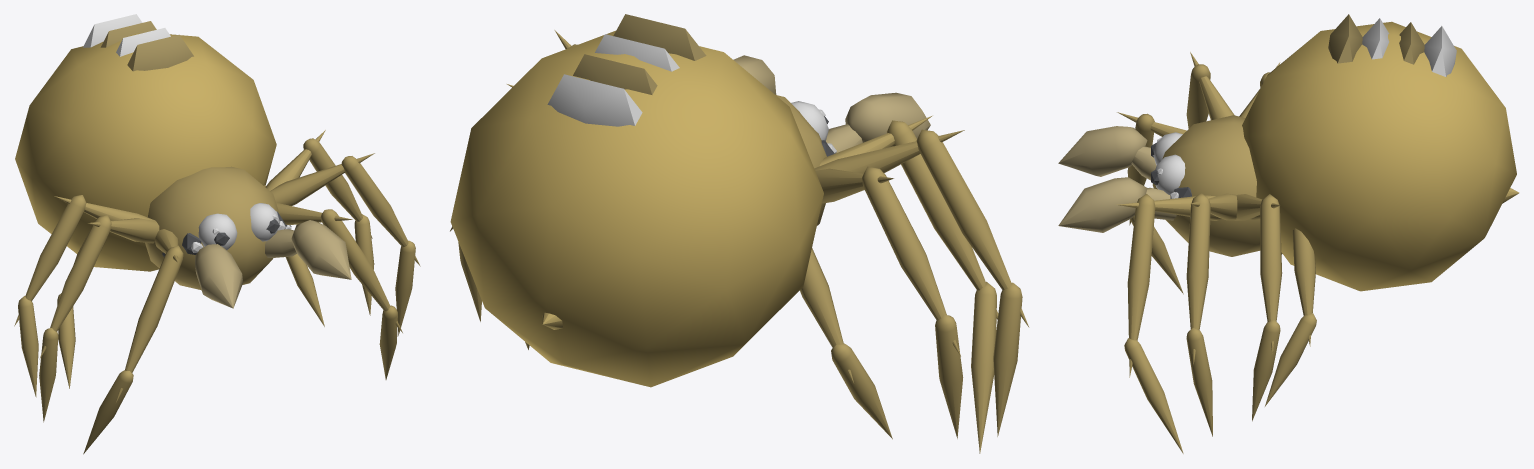
Rendered from cyrtophora-exanthematica.glb.
The picture shows the model from 3 angles, left to right: view 1: azimuth 30°, elevation 25°; view 2: azimuth 150°, elevation 25°; view 3: azimuth 270°, elevation 25°; orthographic projection. The views are drawn at different scales.
Parts seen in each view (by area): view 1: abdomen, cephalothorax, leg2-l0, leg2-r0, leg3-r0, leg1-r0, leg3-l0, leg1-l0, palp-l1, palp-r1, eye0-r, leg0-r0 (+3 smaller); view 2: abdomen, leg2-r0, leg3-r0, leg1-r0, leg0-r0, palp-r1, cephalothorax, palp-l1, eye0-r, palp-r0; view 3: abdomen, cephalothorax, leg3-l0, leg2-l0, leg1-l0, palp-l1, palp-r1, leg0-l0, leg2-r0, leg3-r0, eye0-l, palp-r0 (+1 smaller).
Part boxes in pixels (<box>): abdomen: <box>15,14,276,271</box>; cephalothorax: <box>145,166,278,290</box>; leg2-l0: <box>270,153,420,335</box>; leg2-r0: <box>39,215,159,422</box>; leg3-r0: <box>83,229,183,454</box>; leg1-r0: <box>14,195,155,397</box>; leg3-l0: <box>276,202,402,379</box>; leg1-l0: <box>265,130,374,315</box>; palp-l1: <box>291,220,351,279</box>; palp-r1: <box>195,244,243,308</box>; eye0-r: <box>198,213,237,249</box>; leg0-r0: <box>57,230,106,388</box>; abdomen: <box>450,14,823,387</box>; leg2-r0: <box>814,129,1029,436</box>; leg3-r0: <box>819,115,998,453</box>; leg1-r0: <box>815,166,963,438</box>; leg0-r0: <box>800,248,892,439</box>; palp-r1: <box>845,92,930,146</box>; cephalothorax: <box>776,95,826,225</box>; palp-l1: <box>733,55,776,94</box>; eye0-r: <box>791,101,828,140</box>; palp-r0: <box>826,124,862,152</box>; abdomen: <box>1242,14,1516,291</box>; cephalothorax: <box>1152,115,1260,256</box>; leg3-l0: <box>1116,194,1221,453</box>; leg2-l0: <box>1186,193,1237,436</box>; leg1-l0: <box>1236,194,1282,421</box>; palp-l1: <box>1058,177,1147,232</box>; palp-r1: <box>1058,126,1147,176</box>; leg0-l0: <box>1251,215,1316,406</box>; leg2-r0: <box>1186,52,1234,128</box>; leg3-r0: <box>1117,112,1186,294</box>; eye0-l: <box>1151,154,1185,194</box>; palp-r0: <box>1131,146,1156,180</box>.
Bounding box in the file's own units: 0.482 × 0.3895 × 0.4659.
